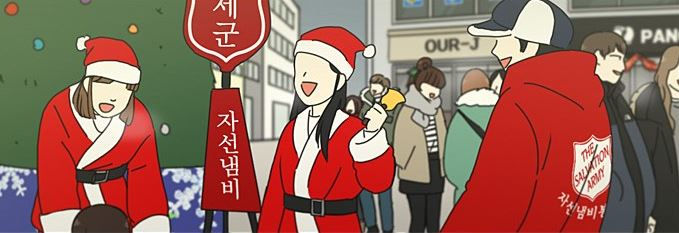hat: (467, 1, 575, 50), (292, 26, 375, 76)
